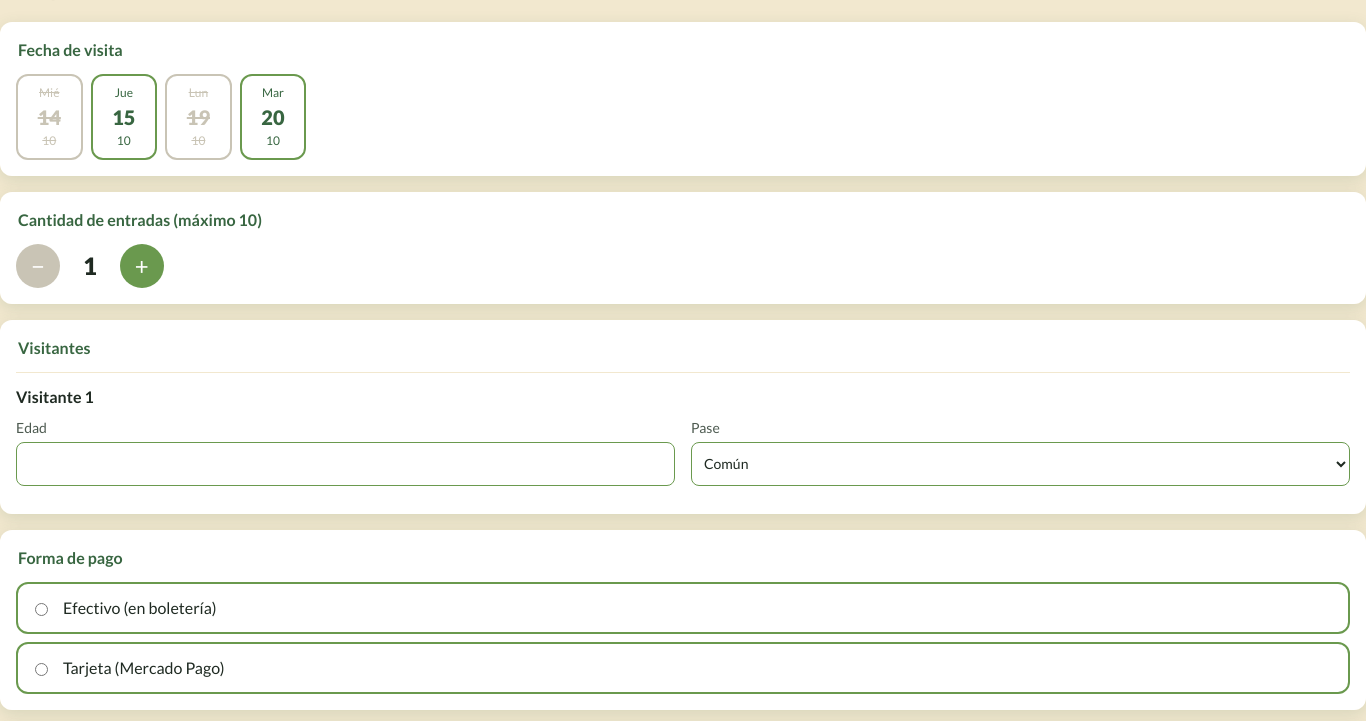
Scenario: Formulario de compra de entradas › botón Confirmar compra › está deshabilitado sin forma de pago aunque el resto esté completo
This screenshot has width=1366, height=721.
Click the button with aria-label "20/10/2026" at (273, 117), box [240, 74, 306, 160]
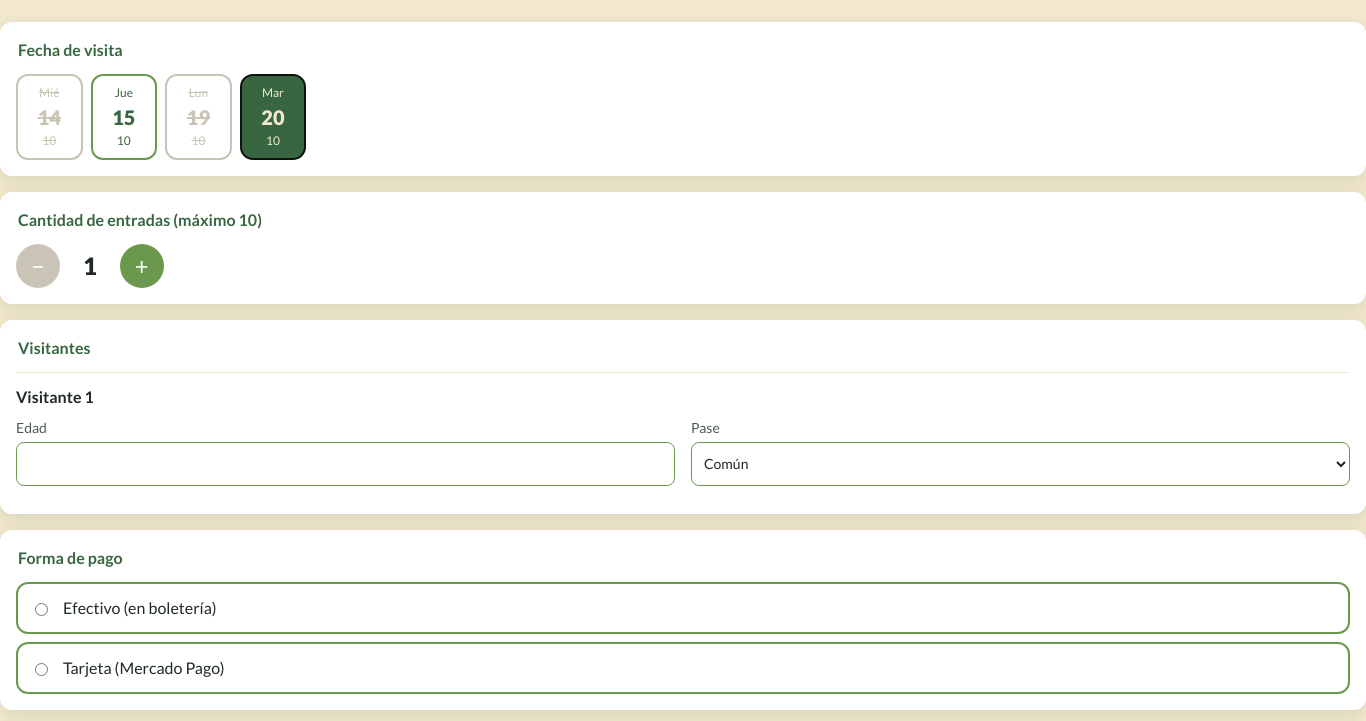
Type "30" into the number field named "Edad del visitante 1" at (346, 464), box [16, 442, 675, 486]
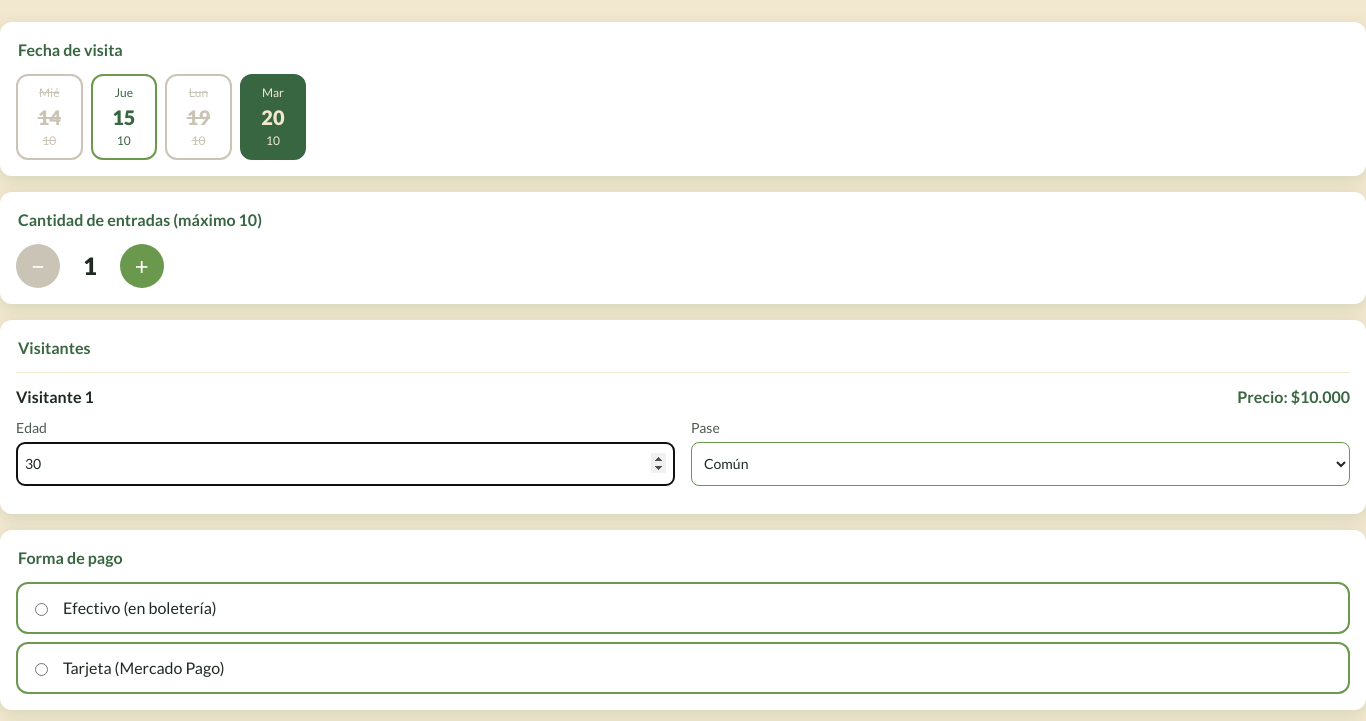
Select "Común" in the dropdown labelled "Pase" at (1020, 464), box [691, 442, 1350, 486]
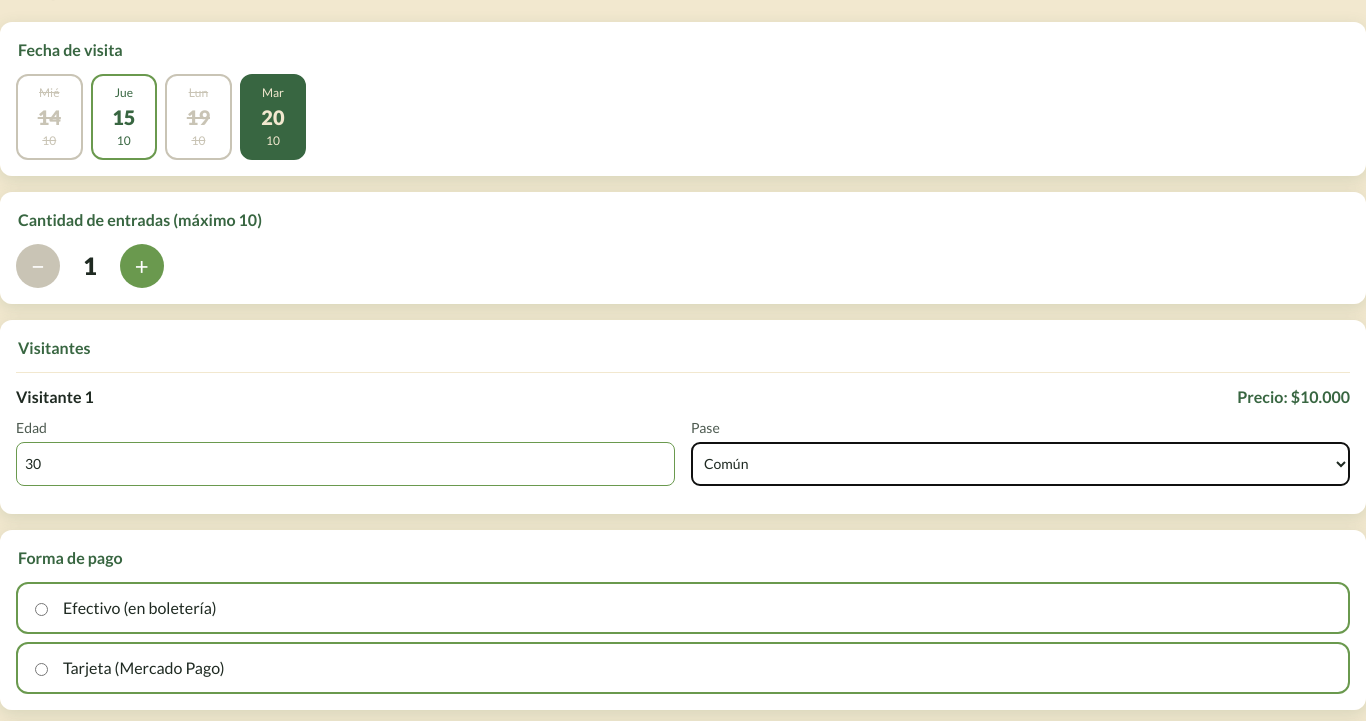
Click the radio button labelled "Efectivo (en boletería)" at (42, 609), box [35, 603, 48, 616]
(page scrolled)
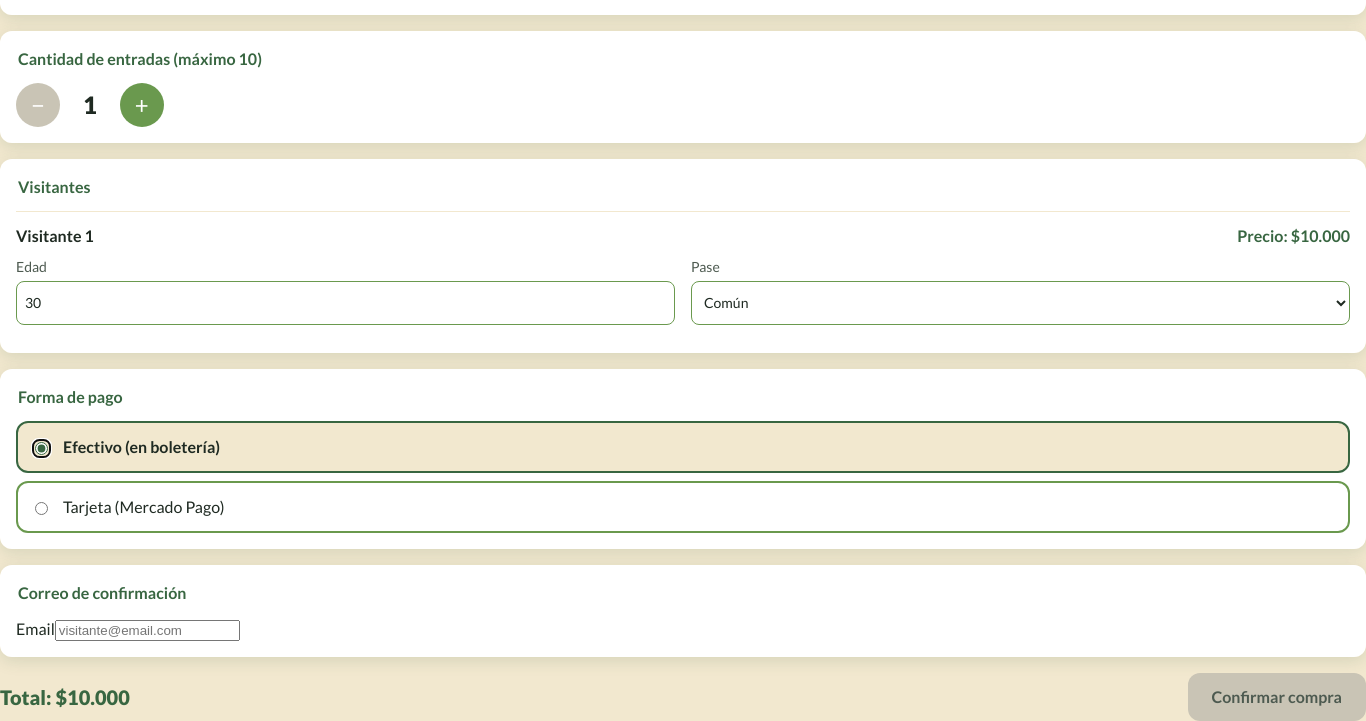
Type "ana@mail.com" into the field labelled "Email" at (147, 630), box [55, 620, 240, 641]
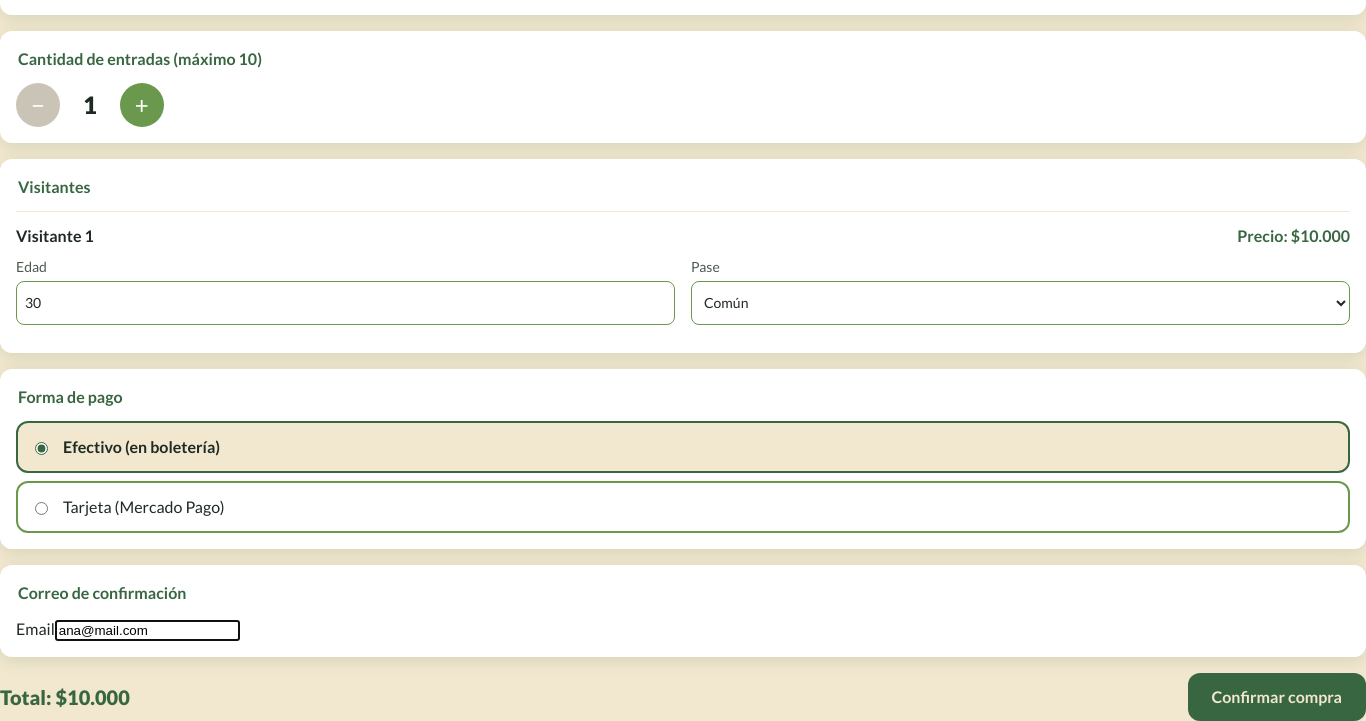
Expected: the button "Confirmar compra" is enabled, [1188, 673, 1365, 720]
